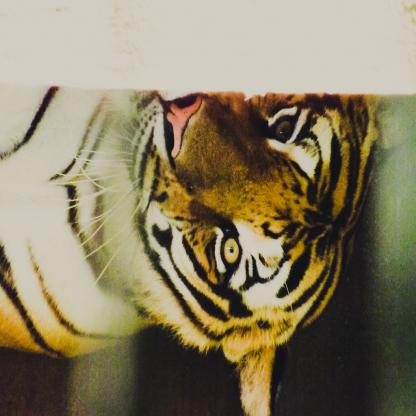tiger: (111, 83, 374, 406)
